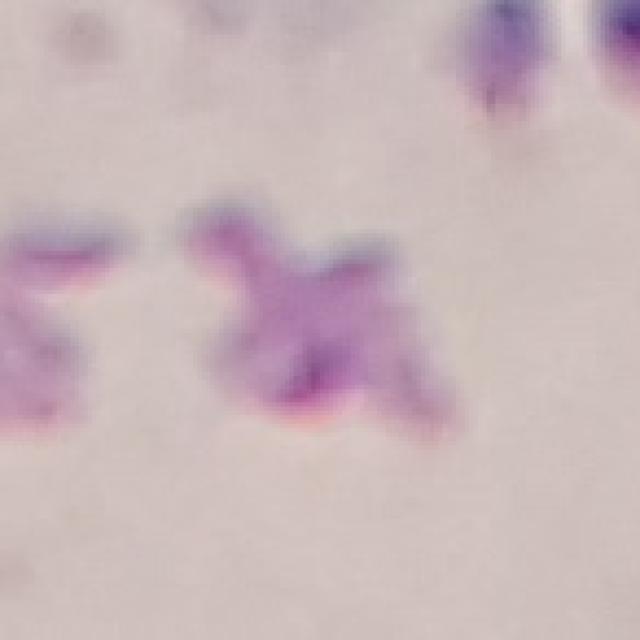non-sperm: (176, 195, 472, 441)
